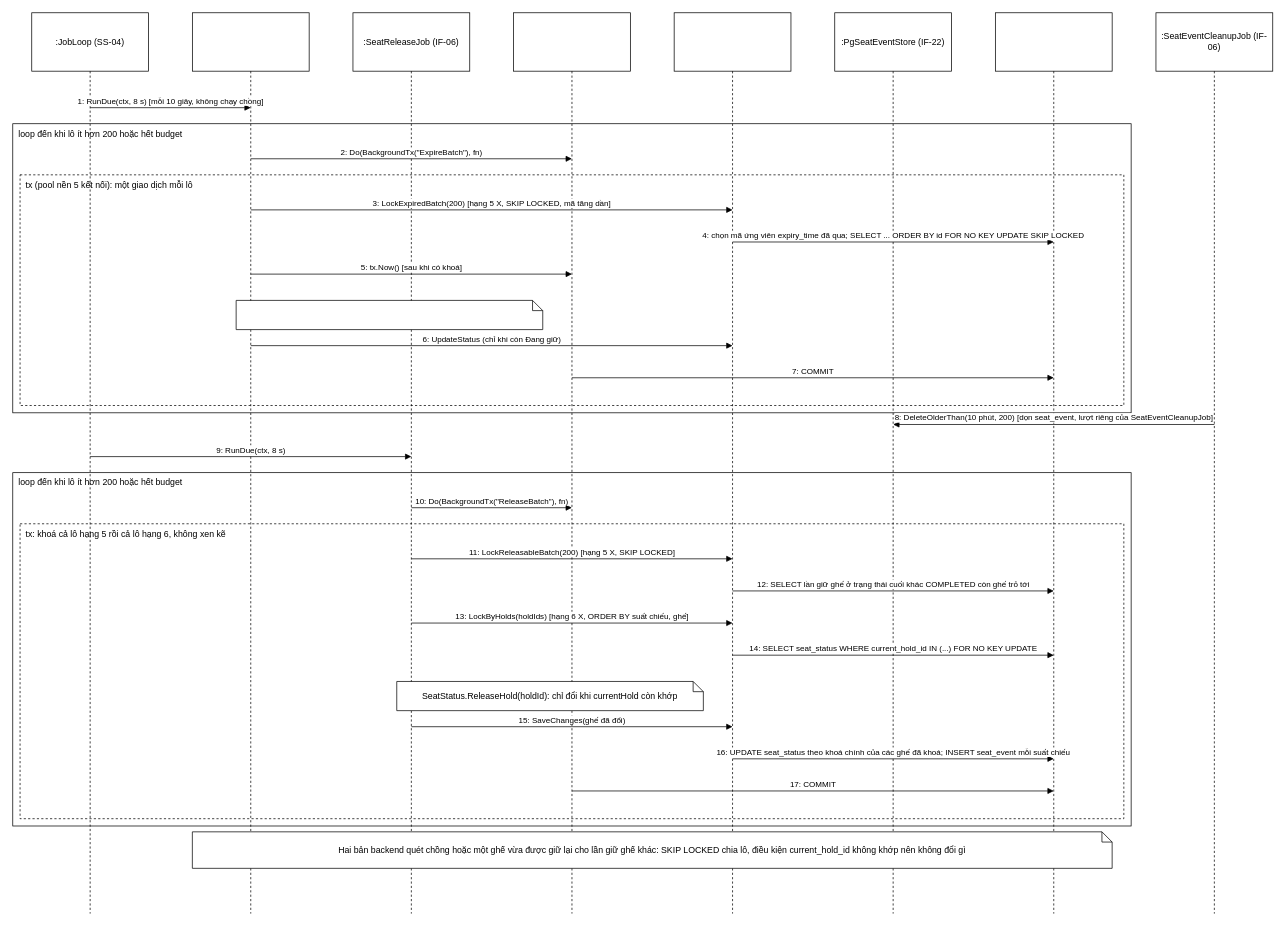
Image size: 1286x926. Some labels were removed from this diagram. Here are the shapes that lost their labels. From the top down, the box of each, then its label:
(235, 300, 543, 330): SeatHold.Expire(now) từng dòng
(192, 12, 309, 914): :HoldExpiryJob (IF-06)
(513, 12, 630, 914): :PgUnitOfWork (IF-08)
(673, 12, 791, 914): :PgSeatHoldStore + :PgSeatStatusStore (IF-17, IF-18, IF-26)
(995, 12, 1112, 914): PostgreSQL
